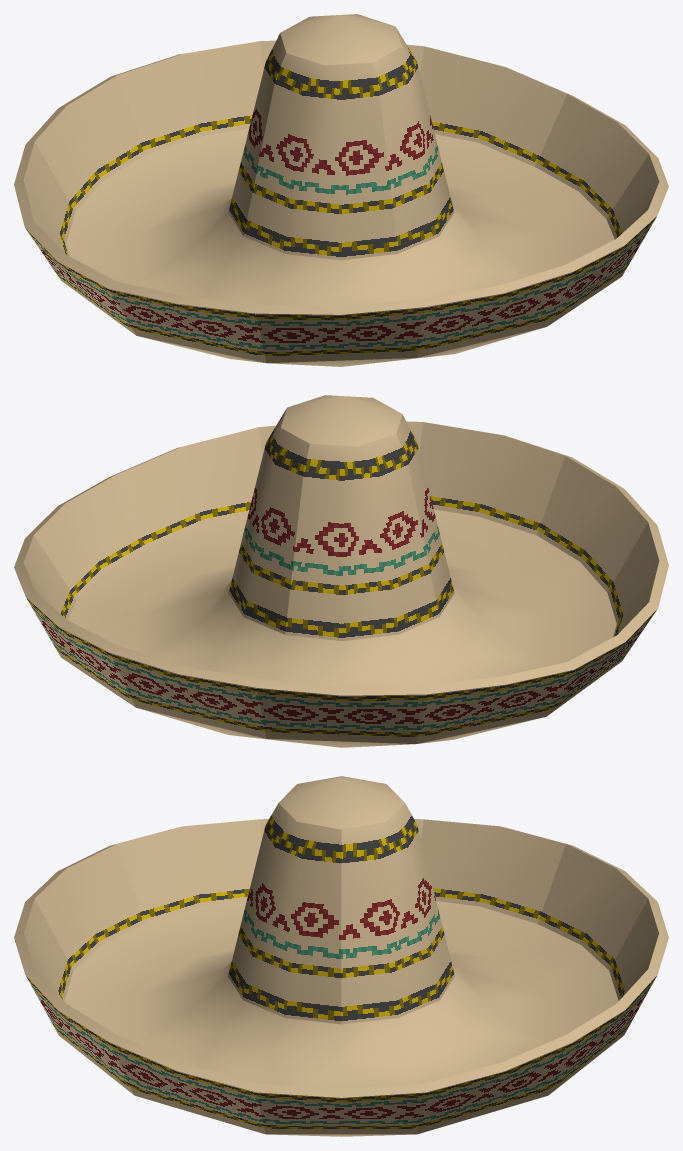
Rendered from sombrero.obj.
3 views of the same model, one above another, from view 1: azimuth 30°, elevation 25°; view 2: azimuth 150°, elevation 25°; view 3: azimuth 270°, elevation 25° (orthographic).
Visible parts, largest first — view 1: Part1; view 2: Part1; view 3: Part1.
Boxes of the visible parts, x1,y1,x2,y2 form: Part1: [14, 14, 668, 366]; Part1: [14, 395, 668, 747]; Part1: [14, 776, 668, 1136].
Bounding box in the file's own units: 2.78 × 1.23 × 2.77.
Materials: 1 (1 with a texture image).
